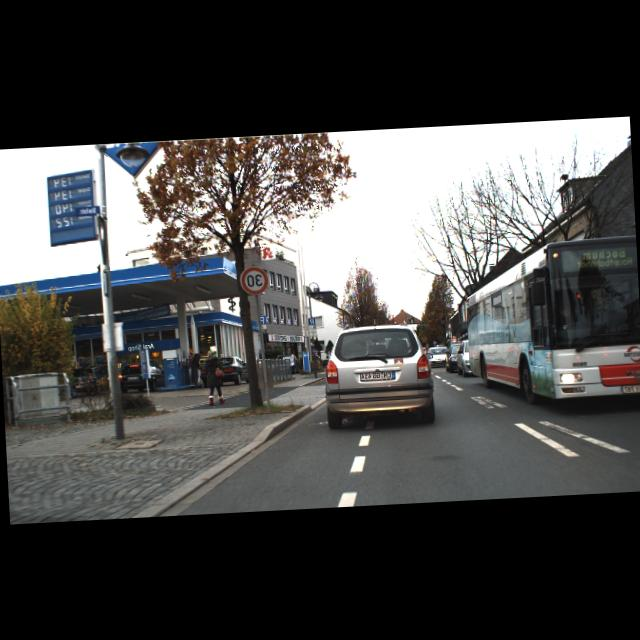prohibitory: (240, 266, 270, 296)
